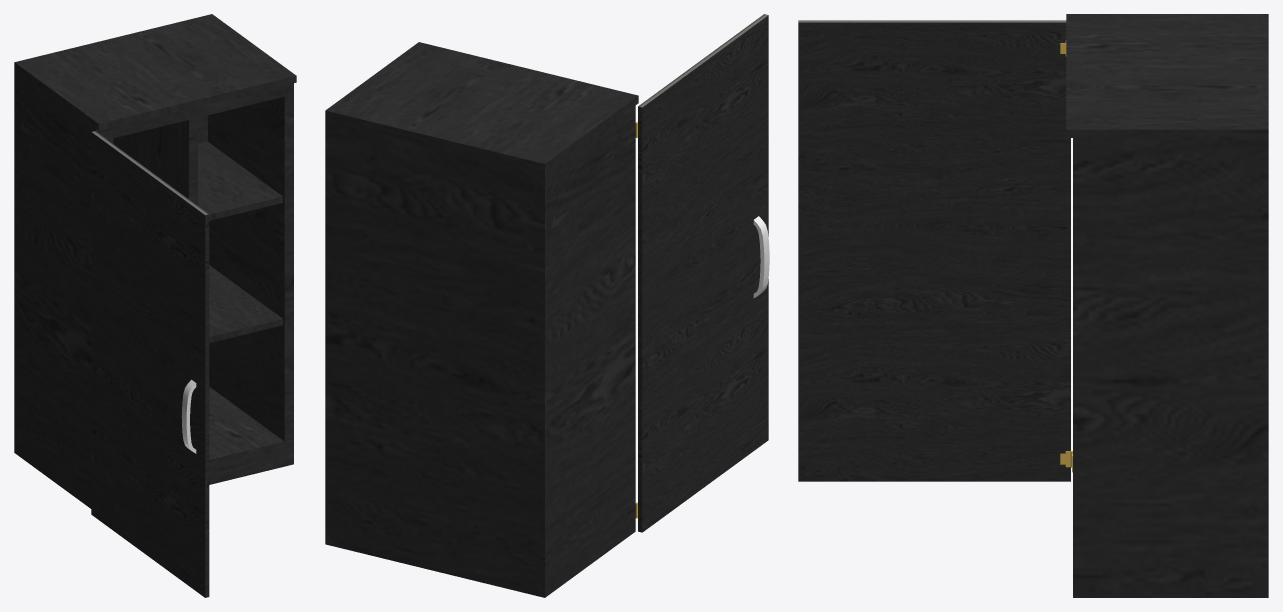
File: Closet48.fbx
3 views of the same model, side by side, from view 1: azimuth 30°, elevation 25°; view 2: azimuth 150°, elevation 25°; view 3: azimuth 270°, elevation 25° (orthographic). The views are drawn at different scales.
Visible parts, largest first — view 1: Closet48, Closet48Door; view 2: Closet48, Closet48Door; view 3: Closet48Door, Closet48.
Part boxes in pixels (x1,y1,x2,y2): Closet48: (14, 14, 296, 508); Closet48Door: (91, 131, 209, 597); Closet48: (325, 42, 638, 597); Closet48Door: (635, 14, 769, 532); Closet48Door: (798, 20, 1072, 481); Closet48: (1066, 14, 1268, 597).
Bounding box in the file's own units: 66.96 × 117 × 107.
